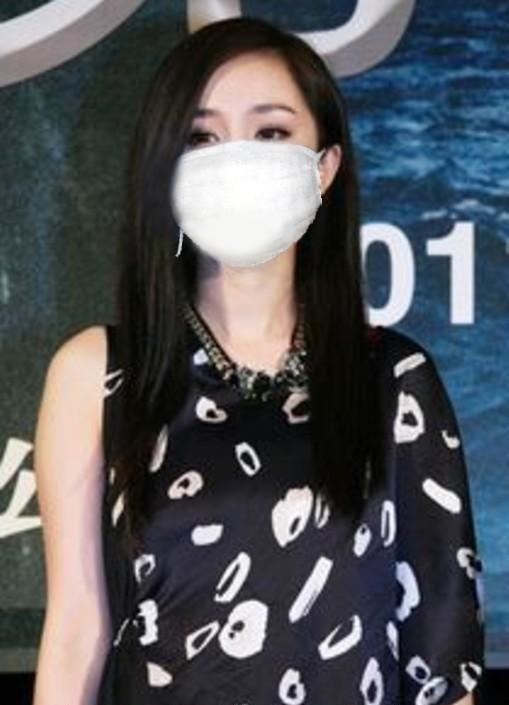face_mask: (172, 52, 321, 268)
